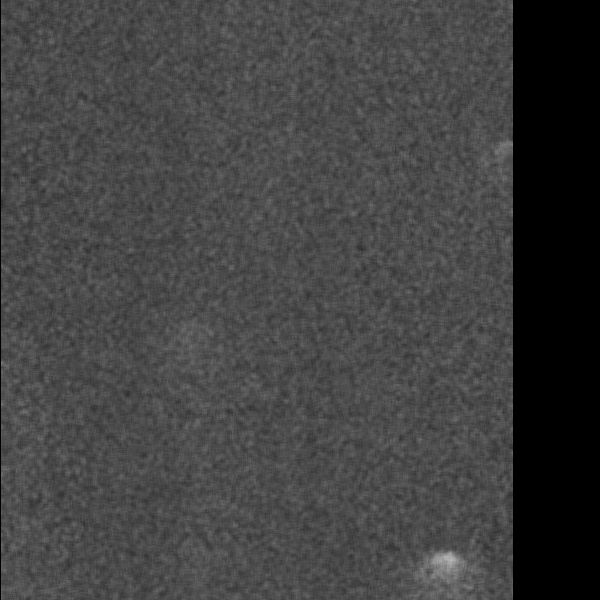spark: (444, 139, 481, 246)
